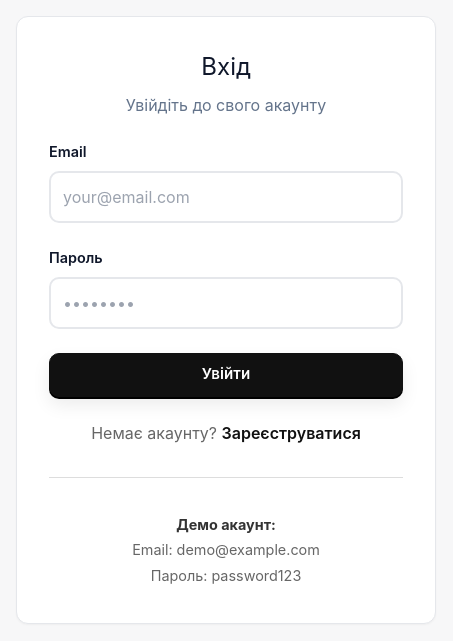
Test: Integration Tests › Navigation Flow › should navigate between login and register pages
Expected: the heading "Вхід" is shown, [201, 52, 251, 82]
// Click register link
Click the link "Зареєструватися": click(291, 433) [222, 423, 361, 443]
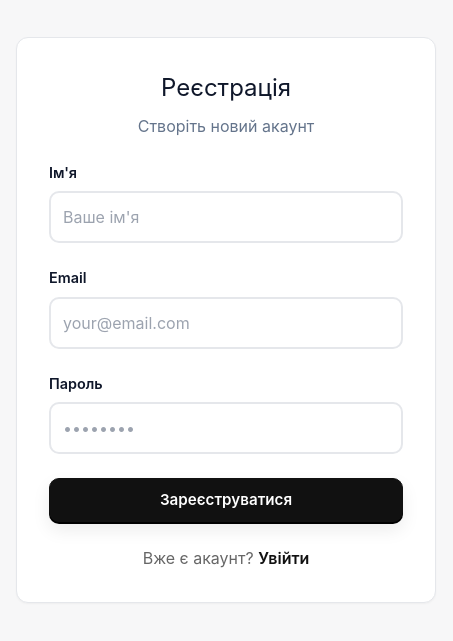
Now the heading "Реєстрація" is shown, box [161, 73, 291, 102]
// Click login link
Click the link "Увійти": click(284, 558) [258, 548, 309, 568]
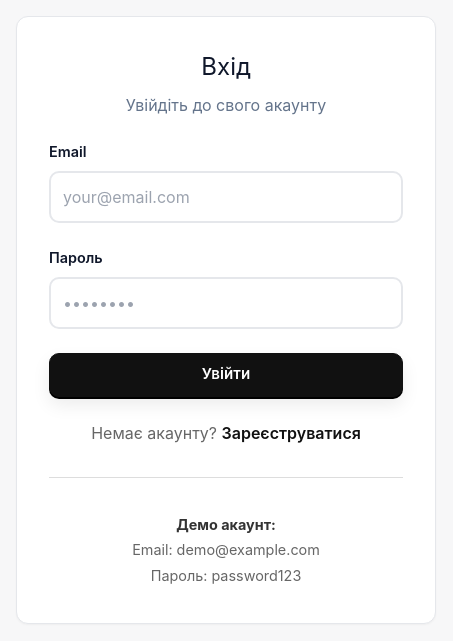
Now the heading "Вхід" is shown, box [201, 52, 251, 82]
